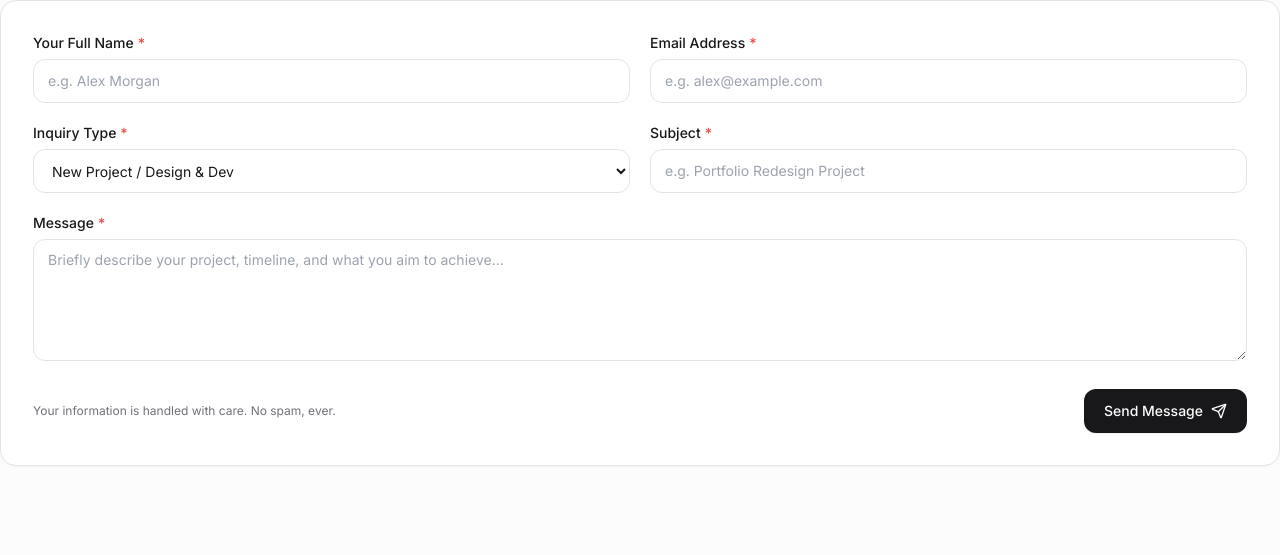
Test case: ContactForm Component › displays validation errors when submitting empty form
Click the button "Send Message". click: point(1166, 411)
box: [1084, 389, 1247, 433]
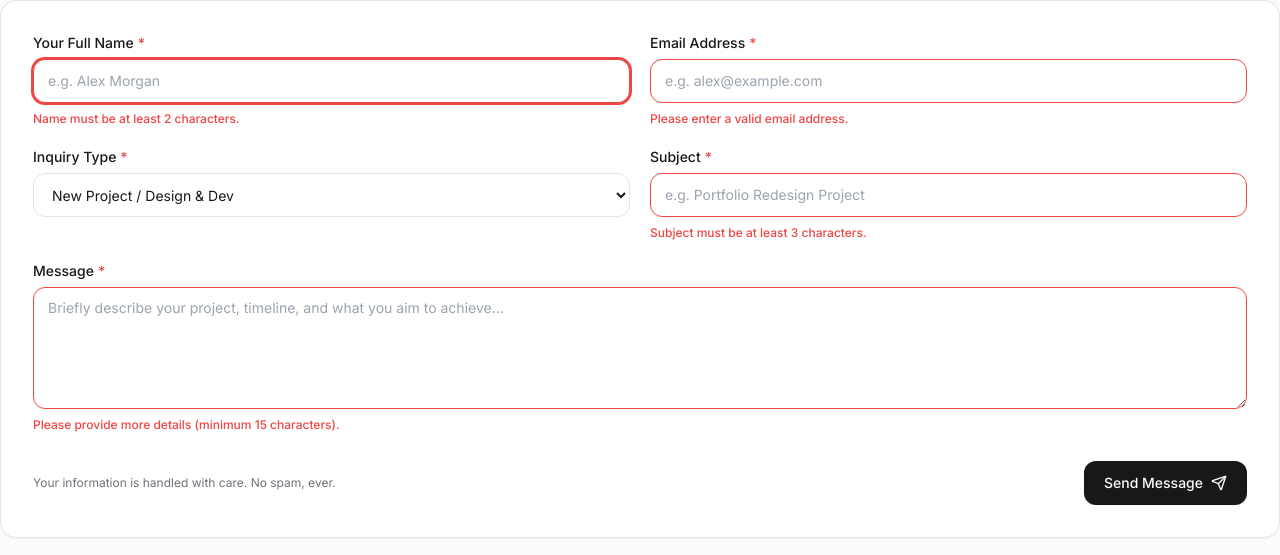
Result: the text "Name must be at least 2 characters." is shown at [33, 111, 240, 126]
Result: the text "Please enter a valid email address." is shown at [650, 111, 848, 126]
Result: the text "Subject must be at least 3 characters." is shown at [650, 225, 867, 240]
